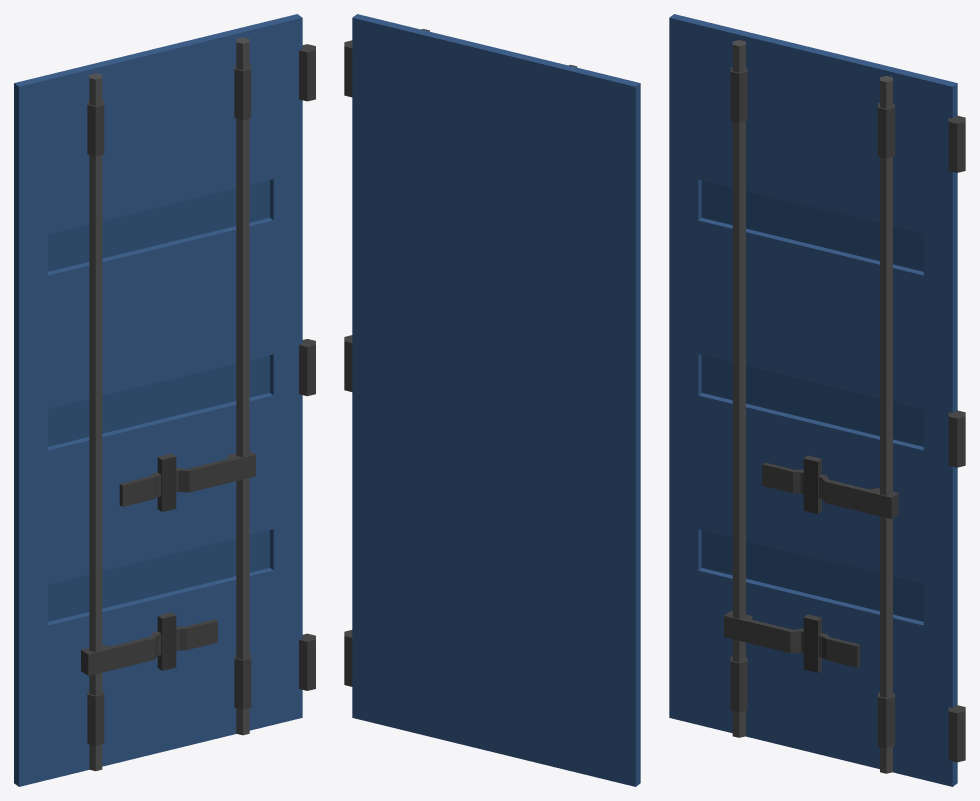
Rendered from ShippingContainer_Door3_R.fbx.
The picture shows the model from 3 angles, left to right: view 1: azimuth 30°, elevation 25°; view 2: azimuth 150°, elevation 25°; view 3: azimuth 330°, elevation 25°; orthographic projection.
Parts seen in each view (by area): view 1: ShippingContainer_Door3_R; view 2: ShippingContainer_Door3_R; view 3: ShippingContainer_Door3_R.
Part boxes in pixels (x1=…): ShippingContainer_Door3_R: x1=14, y1=14, x2=315, y2=786; ShippingContainer_Door3_R: x1=344, y1=14, x2=640, y2=786; ShippingContainer_Door3_R: x1=669, y1=14, x2=965, y2=786.
Bounding box in the file's own units: 117 × 263 × 8.59.
